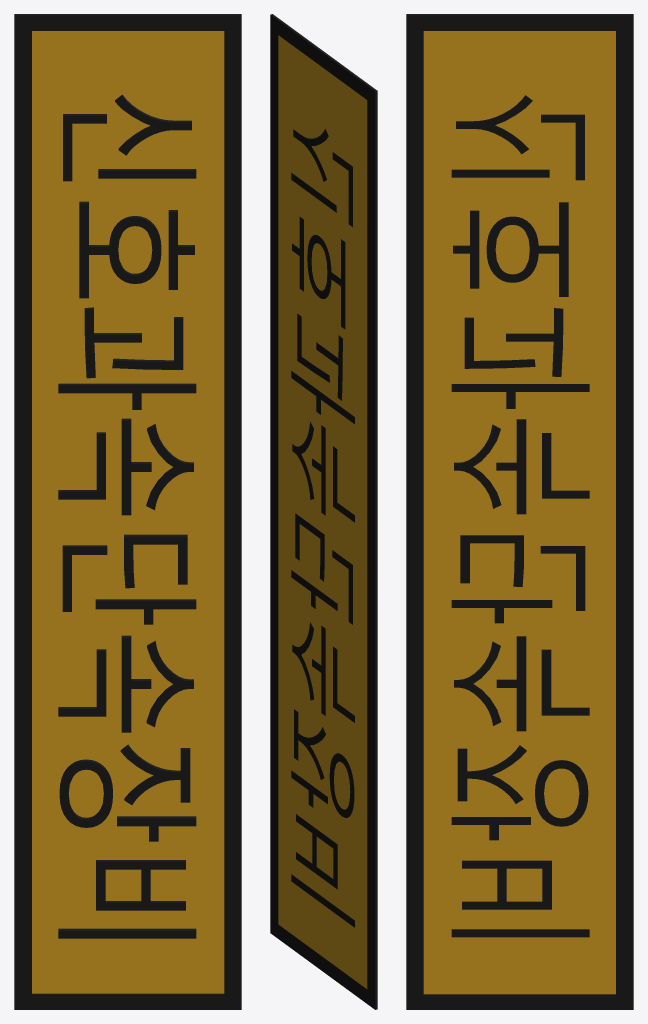
Rendered from 과속단속장비 표지판 v1.fbx.
The picture shows the model from 3 angles, left to right: view 1: azimuth 90°, elevation 25°; view 2: azimuth 210°, elevation 25°; view 3: azimuth 270°, elevation 25°; orthographic projection. The views are drawn at different scales.
Parts seen in each view (by area): view 1: Body4, Body1, Body12, Body16, Body26, Body17, Body9, Body8, Body27, Body3, Body2, Body11 (+15 smaller); view 2: Body4, Body1, Body12, Body16, Body26, Body17, Body3, Body8, Body2, Body9, Body5, Body7 (+15 smaller); view 3: Body4, Body1, Body12, Body16, Body26, Body17, Body3, Body2, Body8, Body9, Body5, Body27 (+15 smaller).
Part boxes in pixels (x1,y1,x2,y2): Body4: (32, 31, 224, 993); Body1: (14, 14, 241, 1009); Body12: (79, 201, 161, 298); Body16: (96, 860, 185, 910); Body26: (59, 759, 112, 827); Body17: (120, 744, 190, 804); Body9: (58, 383, 196, 409); Body8: (124, 534, 187, 588); Body27: (58, 928, 196, 938); Body3: (68, 769, 103, 817); Body2: (118, 226, 152, 273); Body11: (115, 94, 191, 155); Body4: (278, 35, 367, 988); Body1: (270, 14, 377, 1009); Body12: (307, 235, 345, 329); Body16: (296, 814, 337, 889); Body26: (329, 753, 354, 817); Body17: (294, 709, 325, 779); Body3: (334, 761, 350, 809); Body8: (295, 513, 324, 581); Body2: (311, 243, 327, 290); Body9: (291, 371, 354, 424); Body5: (316, 837, 333, 878); Body7: (312, 626, 325, 715); Body4: (423, 31, 615, 994); Body1: (406, 14, 633, 1009); Body12: (486, 202, 568, 296); Body16: (462, 860, 551, 909); Body26: (535, 760, 588, 826); Body17: (457, 745, 526, 803); Body3: (544, 768, 579, 818); Body2: (495, 225, 529, 274); Body8: (460, 535, 523, 587); Body9: (451, 384, 589, 408); Body5: (506, 868, 542, 901); Body27: (451, 929, 589, 937).
Bounding box in the file's own units: 100 × 18853 × 3902.
